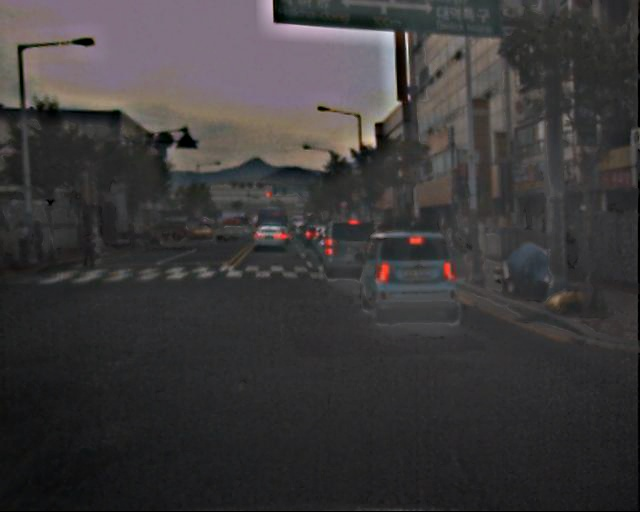person: (16, 220, 58, 260), (80, 225, 105, 271)
